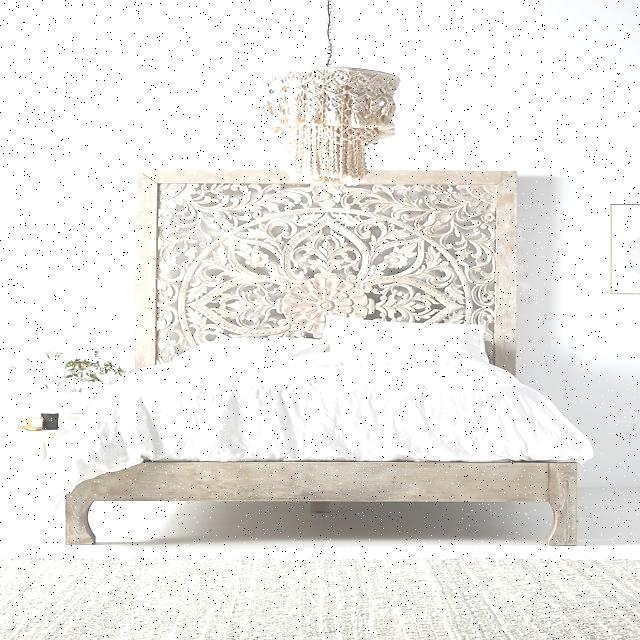bed: (34, 310, 591, 509)
